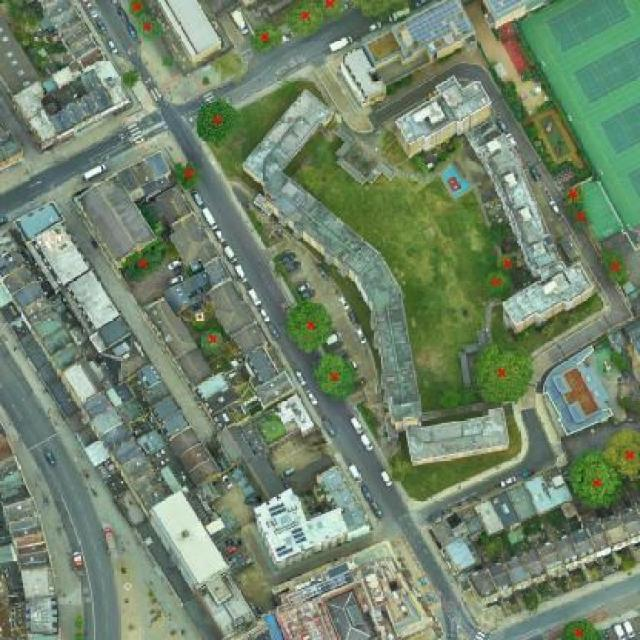tree: (466, 334, 543, 409), (562, 448, 623, 517), (186, 89, 249, 152), (280, 297, 338, 358), (112, 240, 175, 288), (308, 346, 360, 403), (601, 421, 640, 490), (239, 16, 290, 65), (280, 0, 326, 48), (597, 242, 634, 290), (164, 157, 208, 197), (475, 268, 520, 303), (355, 0, 417, 25), (131, 14, 178, 46), (433, 379, 470, 419), (554, 614, 609, 640), (194, 325, 231, 360), (307, 0, 351, 29), (563, 202, 600, 233), (490, 248, 525, 280), (556, 174, 590, 206), (120, 0, 158, 23)
